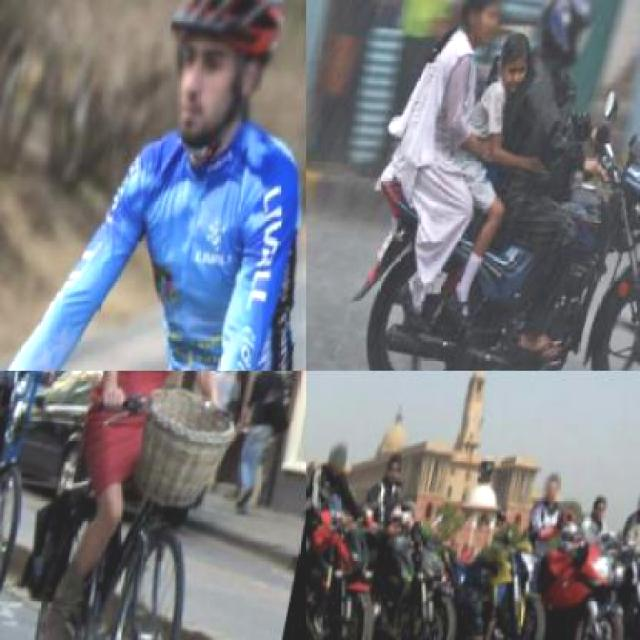With Helmet: (144, 0, 302, 168), (523, 0, 608, 91)
Without Helmet: (452, 0, 510, 48), (491, 33, 537, 93), (377, 452, 406, 496), (323, 442, 351, 483), (537, 474, 561, 514), (588, 500, 610, 532), (632, 494, 638, 524)
